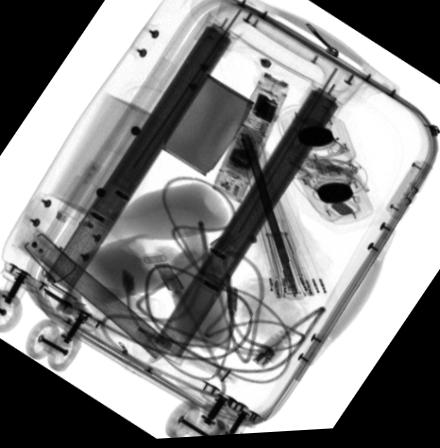Baton: (212, 75, 290, 207)
